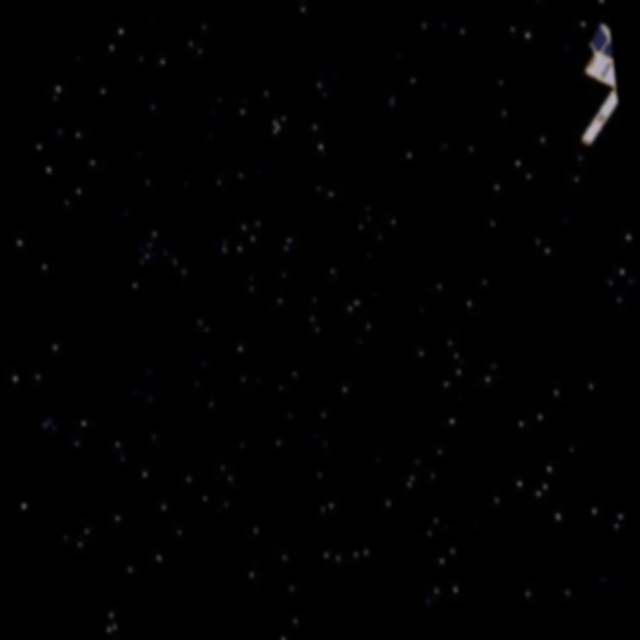satellite: (566, 18, 624, 161)
